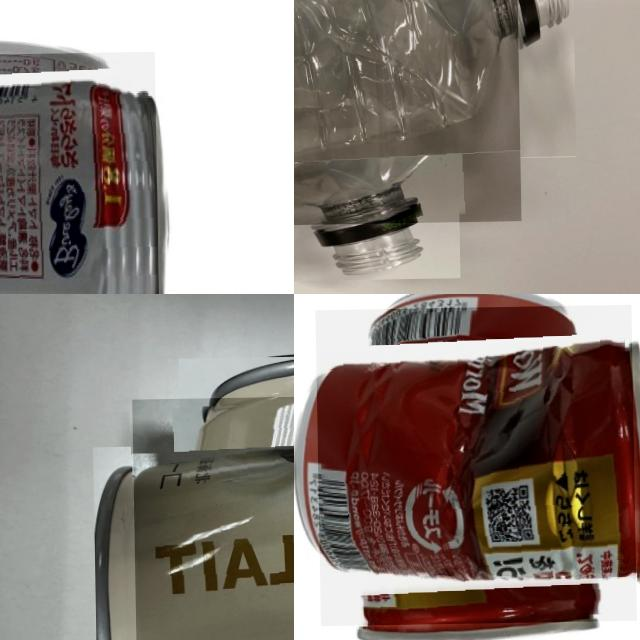Can: (314, 304, 635, 624), (130, 390, 294, 640), (0, 50, 159, 294)
Transparent Plastic Bottle: (294, 0, 520, 226)
